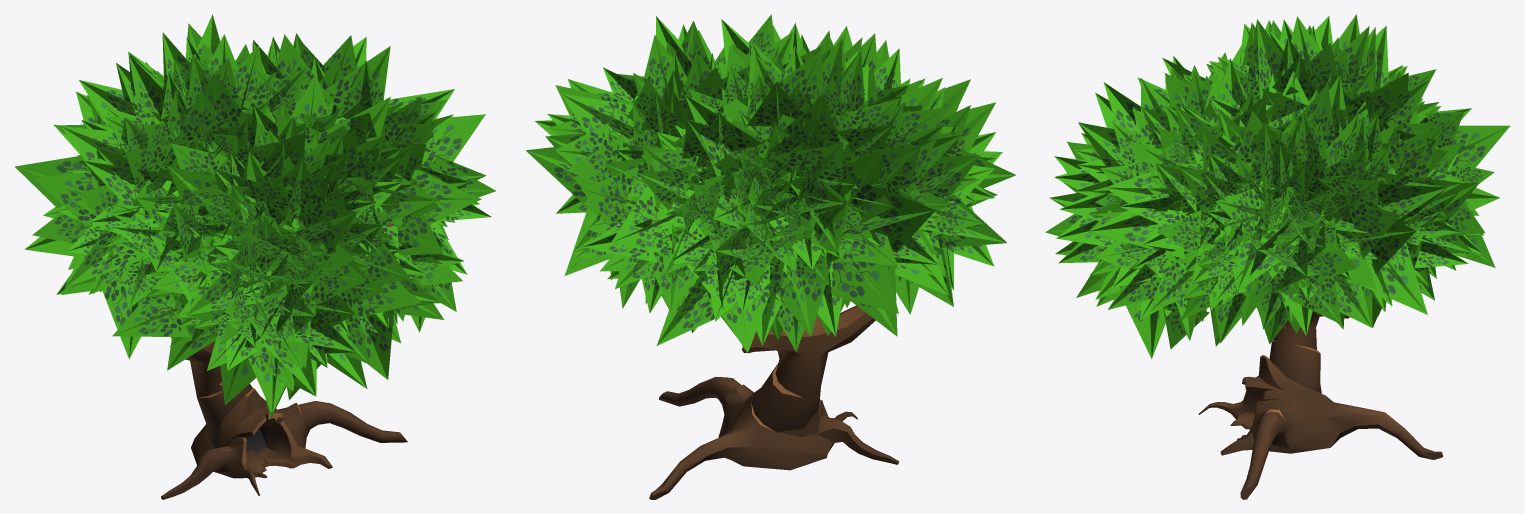
The model's file is Tree_8D.fbx.
3 renders of one model, left to right at view 1: azimuth 30°, elevation 25°; view 2: azimuth 150°, elevation 25°; view 3: azimuth 270°, elevation 25°, orthographic. The views are drawn at different scales.
Visible parts, largest first — view 1: Tree_8D; view 2: Tree_8D; view 3: Tree_8D.
Boxes of the visible parts, <box> form: Tree_8D: <box>15,14,495,499</box>; Tree_8D: <box>526,14,1016,499</box>; Tree_8D: <box>1045,14,1510,499</box>.
Size of the model in its own units: 2366 by 2160 by 2282.
